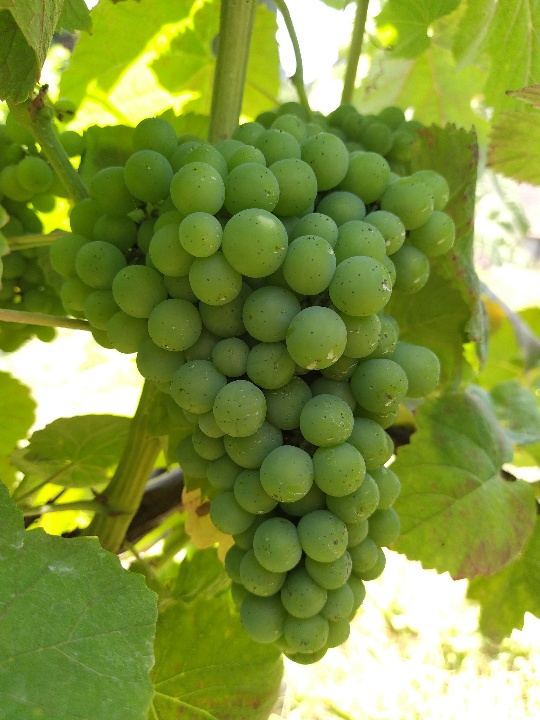grape: (52, 114, 456, 666)
